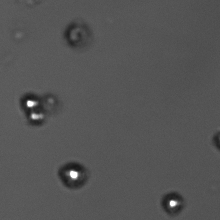Dead Cell: (65, 19, 91, 51)
Living Cell: (57, 160, 90, 189), (160, 190, 186, 215), (20, 92, 43, 111), (26, 109, 45, 125)
